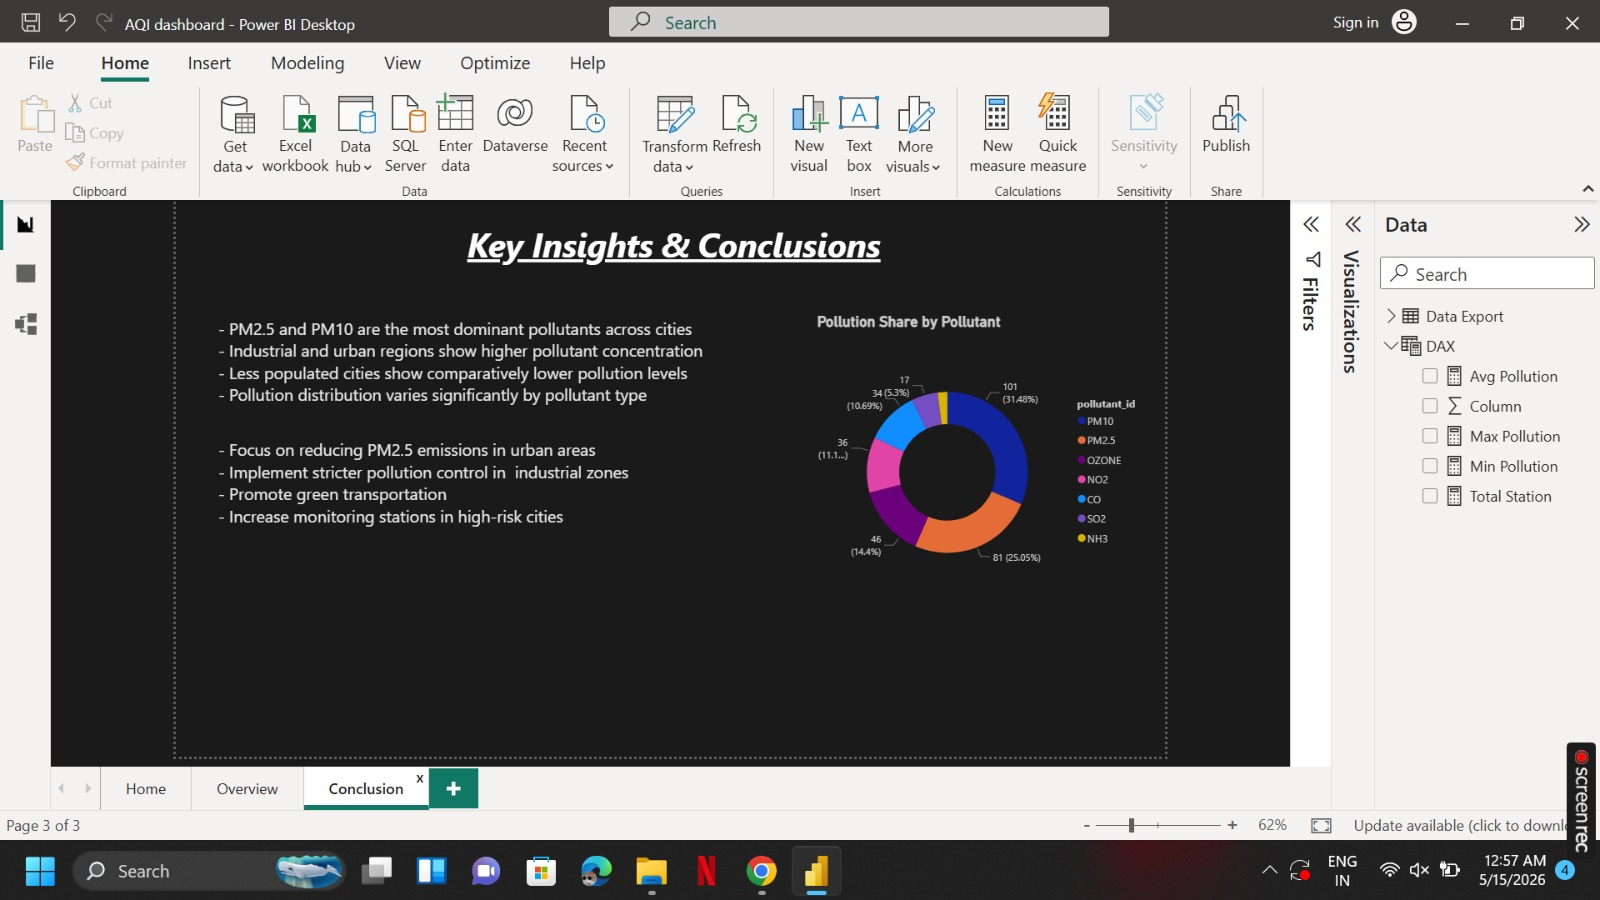

What the dashboard file says about the page in this screenshot:
{"tool":"powerbi","page":{"name":"Page 3","canvas":[1280,720],"ordinal":2},"visuals":[{"type":"textbox","box":[9.4,22.7,1269.9,92.6],"z":0},{"type":"textbox","box":[9.4,145.5,703,141.7],"z":1000},{"type":"donutChart","title":"Pollution Share by Pollutant","fields":{"Category":["Data Export.pollutant_id"],"Y":["DAX.Avg Pollution"]},"box":[825.8,145.5,438.4,391.2],"z":3000},{"type":"textbox","box":[9.4,302.4,663.3,132.3],"z":4000}]}

Visuals, with their boxes on the page's 1280x720 design canvas (x1, y1, x2, y2). These are canvas units, not pixel positions in the 1600x900 screenshot, which may show the page scaled, cropped or inside an application window:
textbox: {"x1": 9, "y1": 23, "x2": 1279, "y2": 115}
textbox: {"x1": 9, "y1": 146, "x2": 712, "y2": 287}
"Pollution Share by Pollutant" donutChart: {"x1": 826, "y1": 146, "x2": 1264, "y2": 537}
textbox: {"x1": 9, "y1": 302, "x2": 673, "y2": 435}
